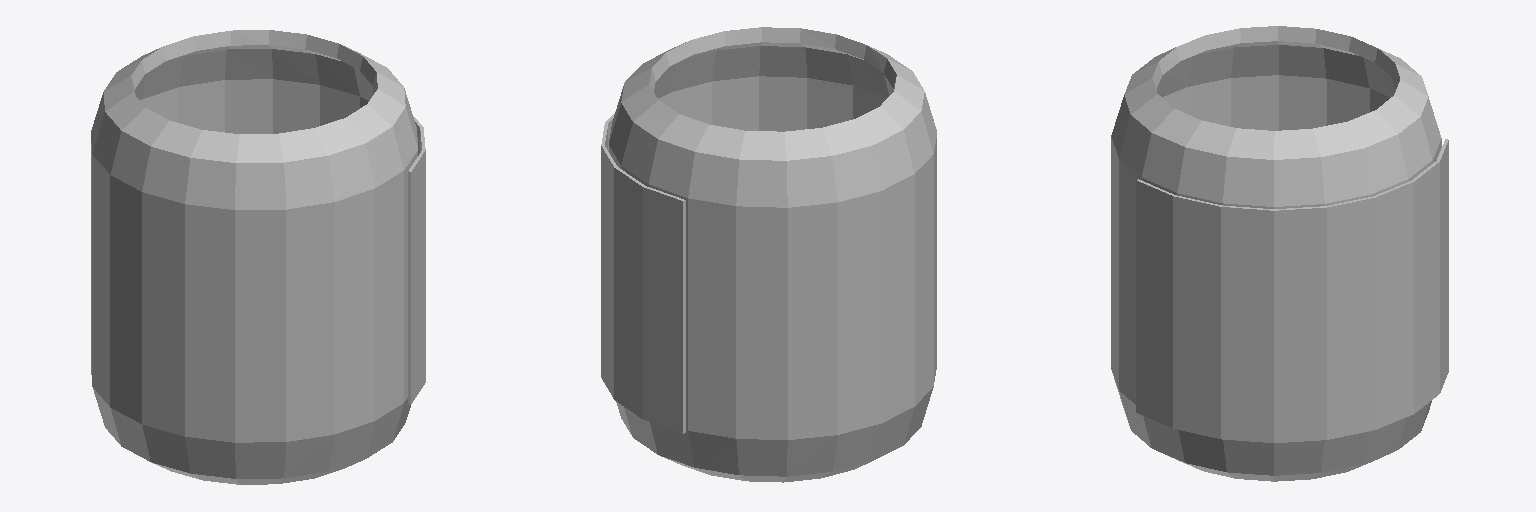
File: Tipjar.obj
3 renders of one model, left to right at view 1: azimuth 30°, elevation 25°; view 2: azimuth 150°, elevation 25°; view 3: azimuth 270°, elevation 25°, orthographic.
Parts seen in each view (by area): view 1: tipjar; view 2: tipjar; view 3: tipjar.
Boxes of the visible parts, x1,y1,x2,y2 form: tipjar: [91, 30, 425, 484]; tipjar: [601, 27, 936, 482]; tipjar: [1111, 26, 1448, 481].
Bounding box in the file's own units: 0.5657 × 0.651 × 0.566.